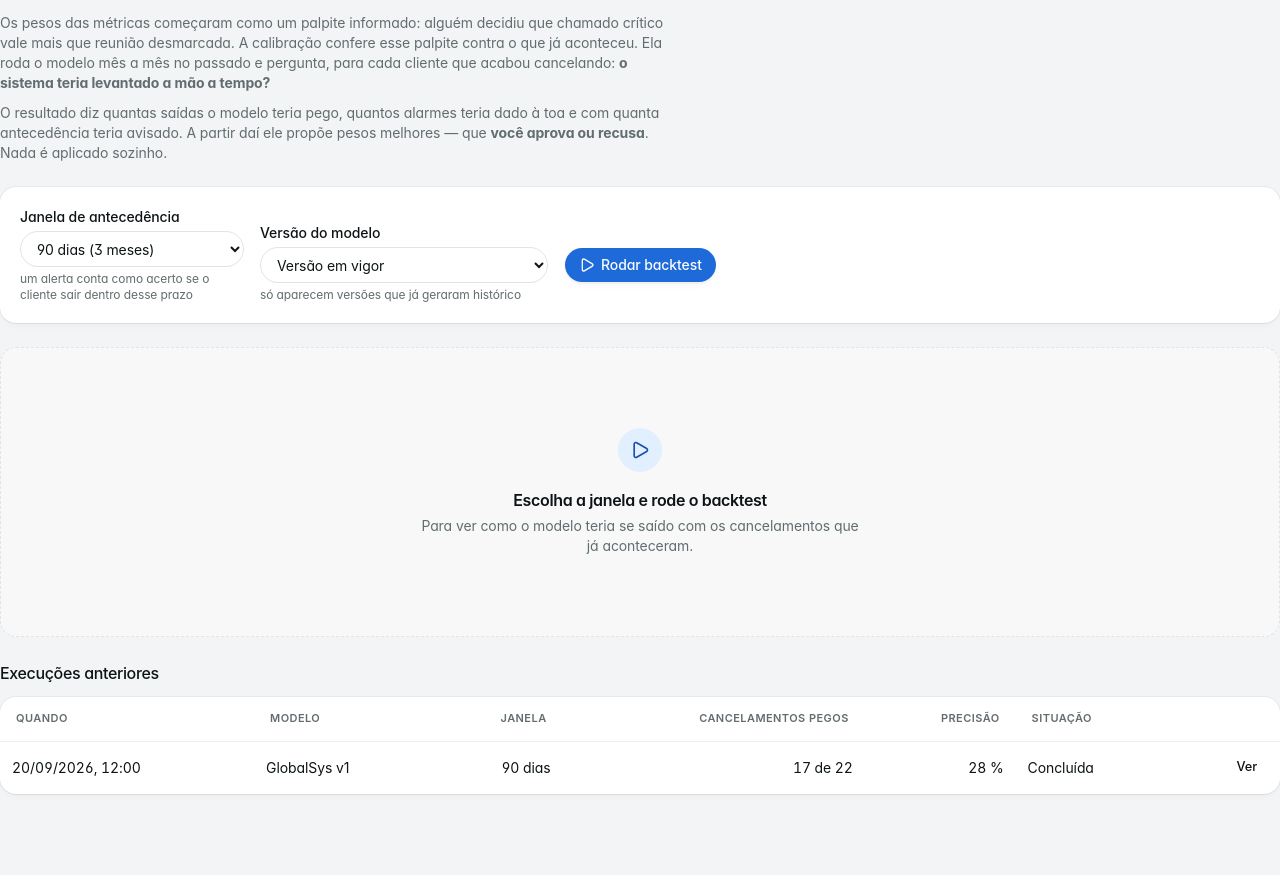
tela de calibração › desenha o slopegraph peso atual → sugerido, com tabela equivalente
Click the button "Rodar backtest": (640, 265) left=564, top=247, right=717, bottom=283
(page scrolled)
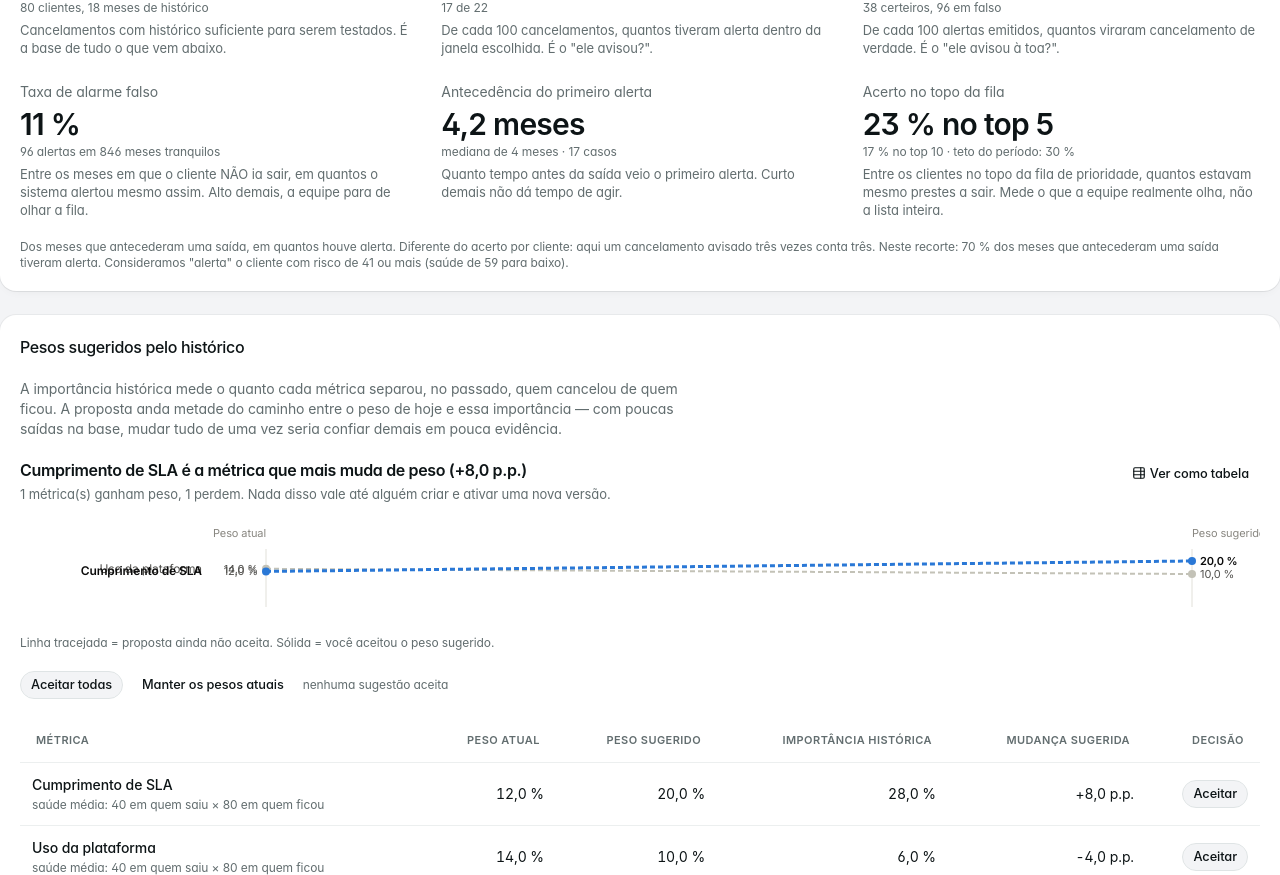
Check: the picture named "peso atual e peso sugerido de cada métrica" is shown, box left=20, top=521, right=1260, bottom=627
Check: the heading "Cumprimento de SLA é a métrica que mais muda" is shown, box left=20, top=459, right=610, bottom=481
Check: the button "Ver como tabela" is shown, box left=1121, top=459, right=1260, bottom=487
